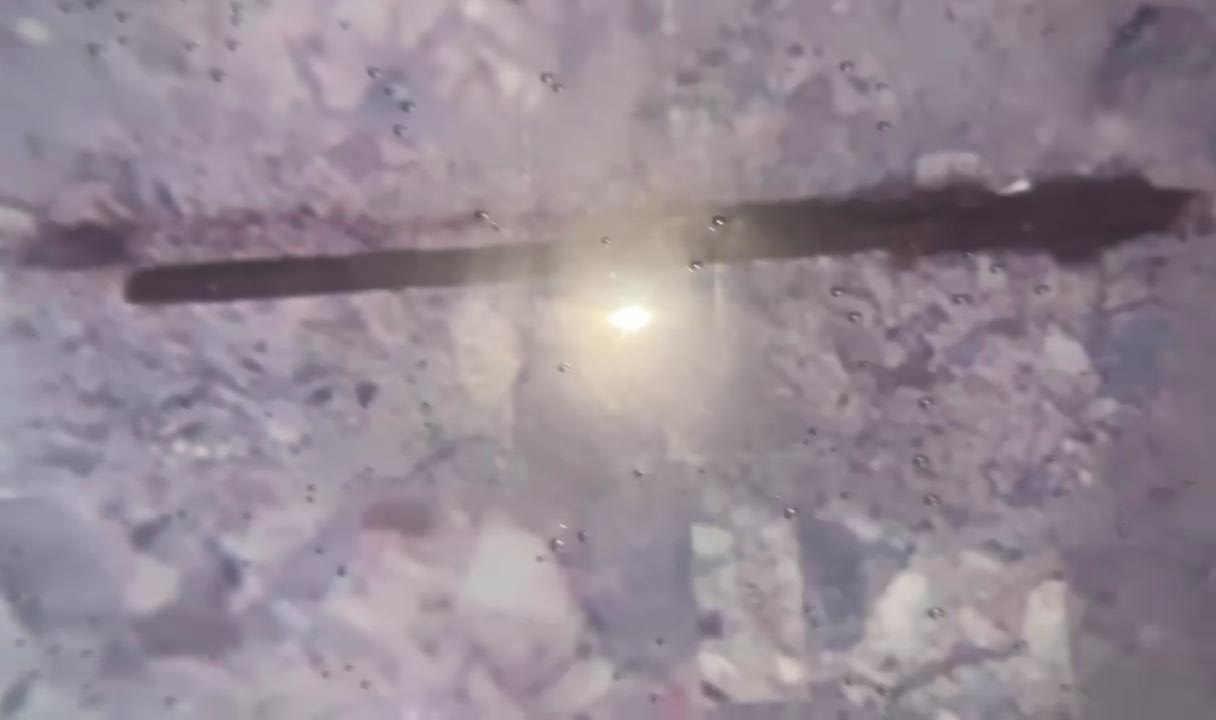Exposed reinforcement: (124, 170, 1200, 306)
